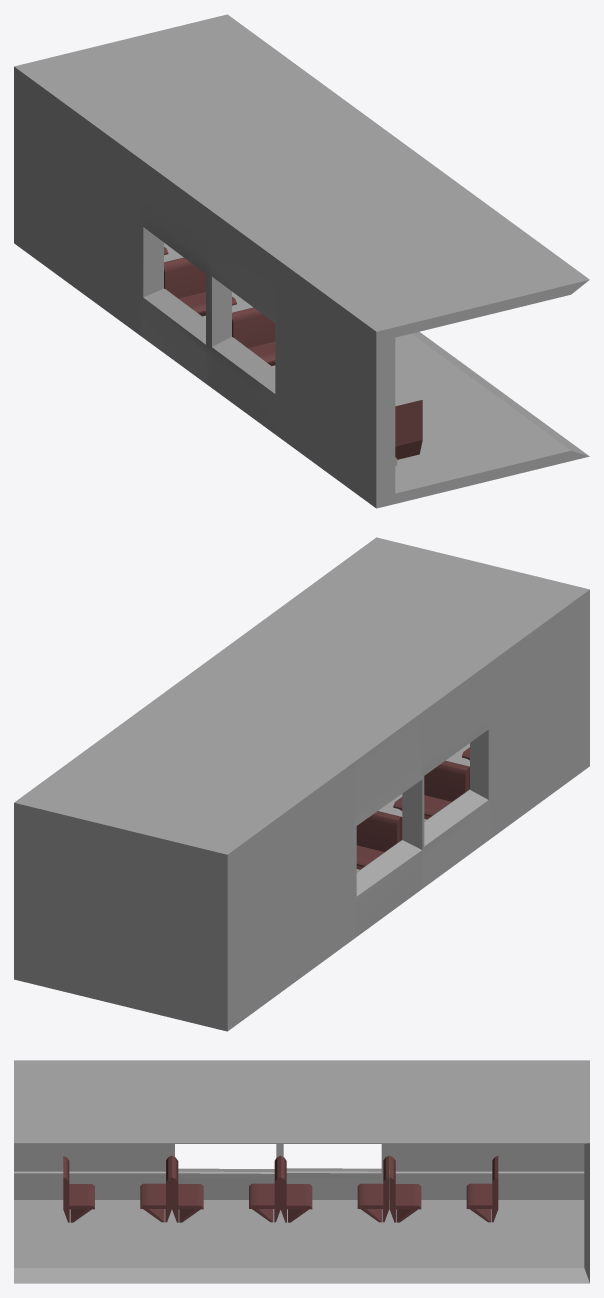
Rendered from train_interior_2.fbx.
3 views of the same model, one above another, from view 1: azimuth 30°, elevation 25°; view 2: azimuth 150°, elevation 25°; view 3: azimuth 270°, elevation 25° (orthographic). The views are drawn at different scales.
Visible parts, largest first — view 1: pCube1, pCube2, pCube5, pCube8; view 2: pCube1, pCube4, pCube6; view 3: pCube1, pCube5, pCube9, pCube10, pCube2, pCube4, pCube8, pCube7, pCube6.
Part boxes in pixels (box(x1,y1,x2,y2)): pCube1: box(14, 14, 589, 508); pCube2: box(232, 307, 275, 365); pCube5: box(164, 258, 236, 316); pCube8: box(395, 400, 422, 459); pCube1: box(14, 537, 589, 1031); pCube4: box(393, 761, 469, 819); pCube6: box(356, 811, 400, 869); pCube1: box(14, 1060, 589, 1283); pCube5: box(357, 1156, 389, 1222); pCube9: box(466, 1156, 498, 1222); pCube10: box(389, 1156, 421, 1222); pCube2: box(249, 1155, 280, 1222); pCube4: box(172, 1156, 203, 1222); pCube8: box(63, 1156, 94, 1222); pCube7: box(140, 1155, 171, 1222); pCube6: box(280, 1156, 312, 1222).
Size of the model in its own units: 17.57 by 13.81 by 51.32.
